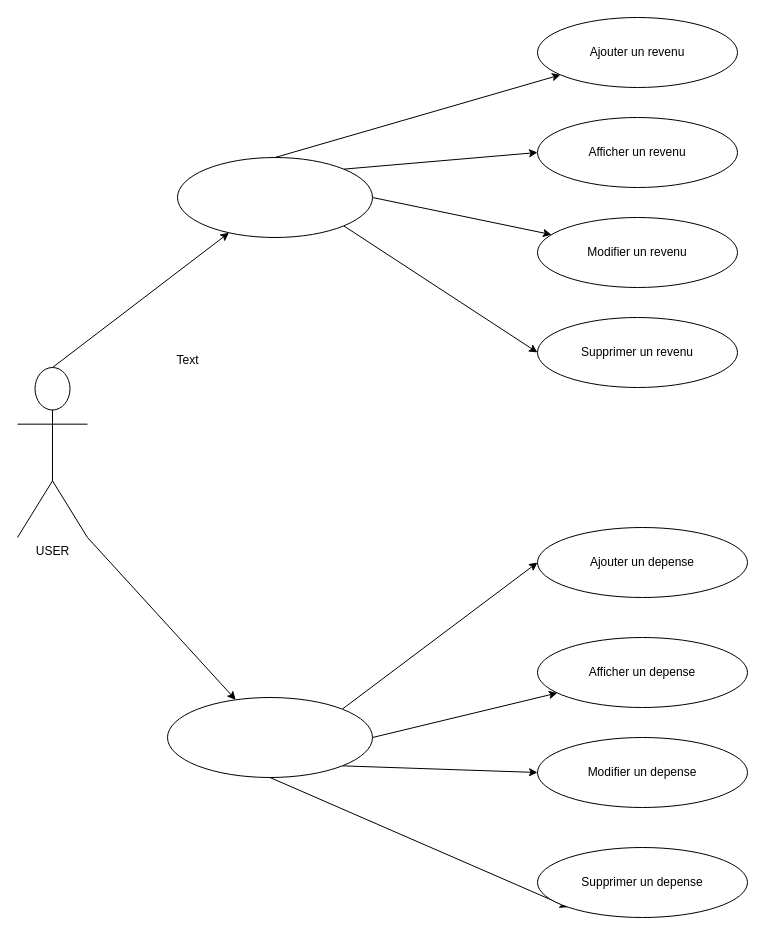
The diagram is 765 pixels wide and 935 high, and some of its shapes have lost their labels. Here are the shapes that lost their labels. From the top down, the centre of each, then its label:
At (274,197): "Gerer les revenus".
At (269,737): "Gerer les depenses".
